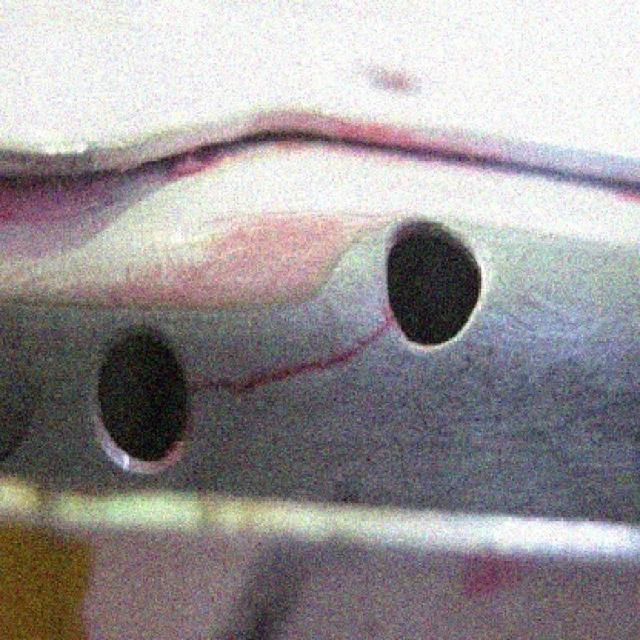crack: (188, 362, 344, 396), (343, 320, 389, 357)
